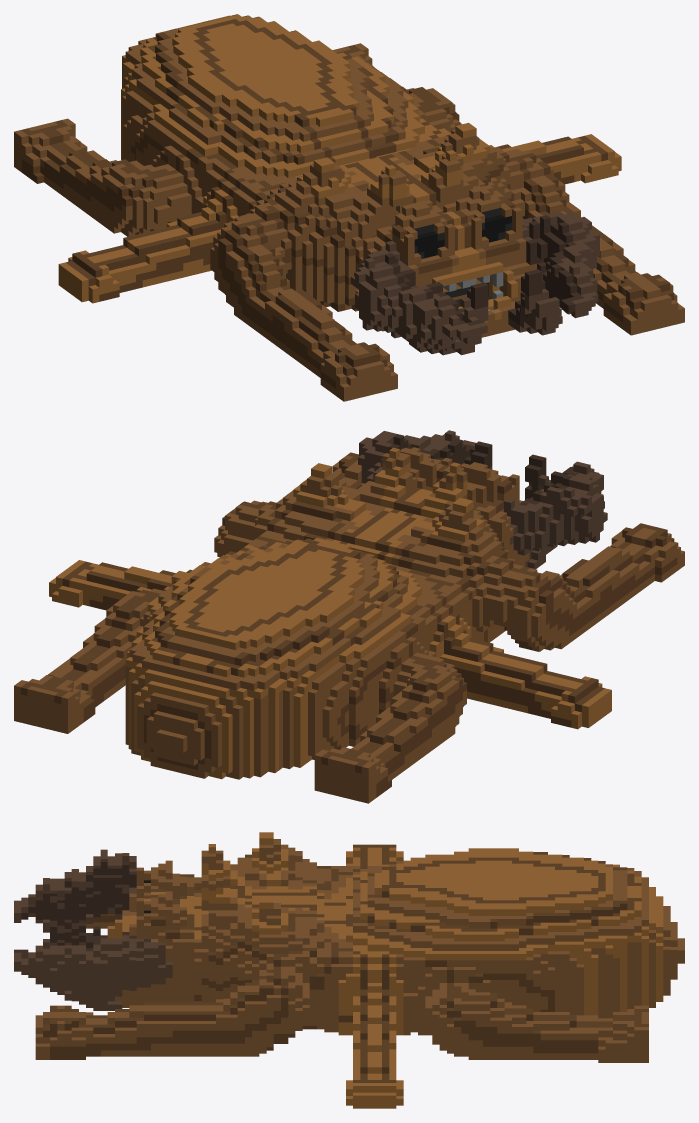
Rendered from beetle_dead_v1-2.obj.
3 renders of one model, top to bottom at view 1: azimuth 30°, elevation 25°; view 2: azimuth 150°, elevation 25°; view 3: azimuth 270°, elevation 25°, orthographic. The views are drawn at different scales.
Bounding box in the file's own units: 8 × 1.9 × 9.3.
1 material, 1 textured.
